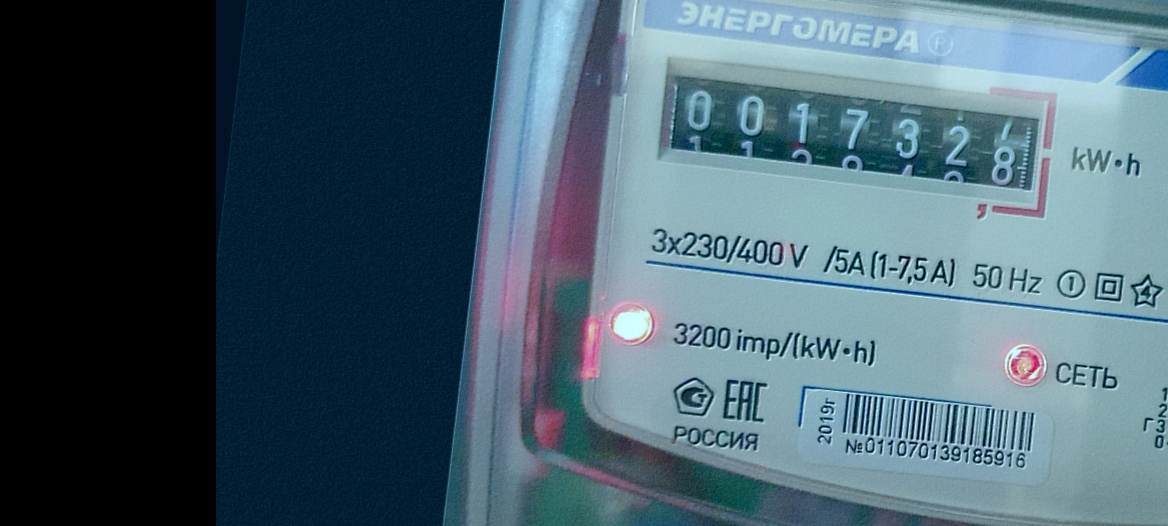0: (682, 86, 719, 134), (736, 90, 770, 138)
1: (790, 97, 816, 146)
2: (941, 121, 975, 169)
3: (892, 115, 924, 161)
7: (839, 105, 871, 154)
8: (988, 142, 1018, 187)
screen: (645, 49, 1067, 224)
